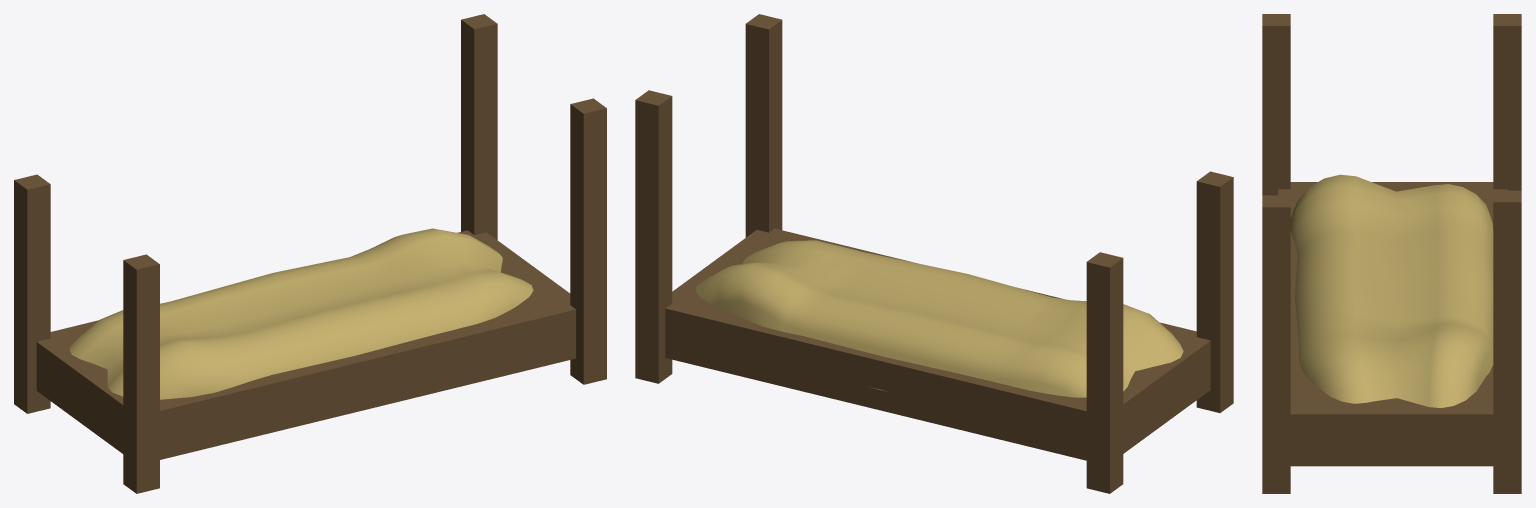
The model's file is Bed.fbx.
3 renders of one model, left to right at view 1: azimuth 30°, elevation 25°; view 2: azimuth 150°, elevation 25°; view 3: azimuth 270°, elevation 25°, orthographic. The views are drawn at different scales.
Parts seen in each view (by area): view 1: pPlane3, pCube1, pCube4, pCube3, pCube5, pCube2; view 2: pPlane3, pCube1, pCube5, pCube2, pCube4, pCube3; view 3: pPlane3, pCube1, pCube5, pCube4, pCube3, pCube2.
Boxes of the visible parts, box(x1,y1,x2,y2) form: pPlane3: box(69, 228, 533, 399); pCube1: box(36, 230, 575, 459); pCube4: box(570, 98, 606, 384); pCube3: box(123, 254, 159, 493); pCube5: box(461, 14, 497, 239); pCube2: box(14, 174, 50, 413); pPlane3: box(695, 240, 1183, 397); pCube1: box(665, 228, 1210, 460); pCube5: box(635, 90, 672, 383); pCube2: box(1086, 252, 1123, 493); pCube4: box(745, 14, 782, 237); pCube3: box(1196, 171, 1233, 412); pPlane3: box(1290, 174, 1493, 407); pCube1: box(1278, 182, 1507, 466); pCube5: box(1493, 190, 1521, 493); pCube4: box(1262, 195, 1290, 493); pCube3: box(1262, 14, 1290, 195); pCube2: box(1493, 14, 1521, 190).
Bounding box in the file's own units: 2.51 × 1.4 × 1.13.
